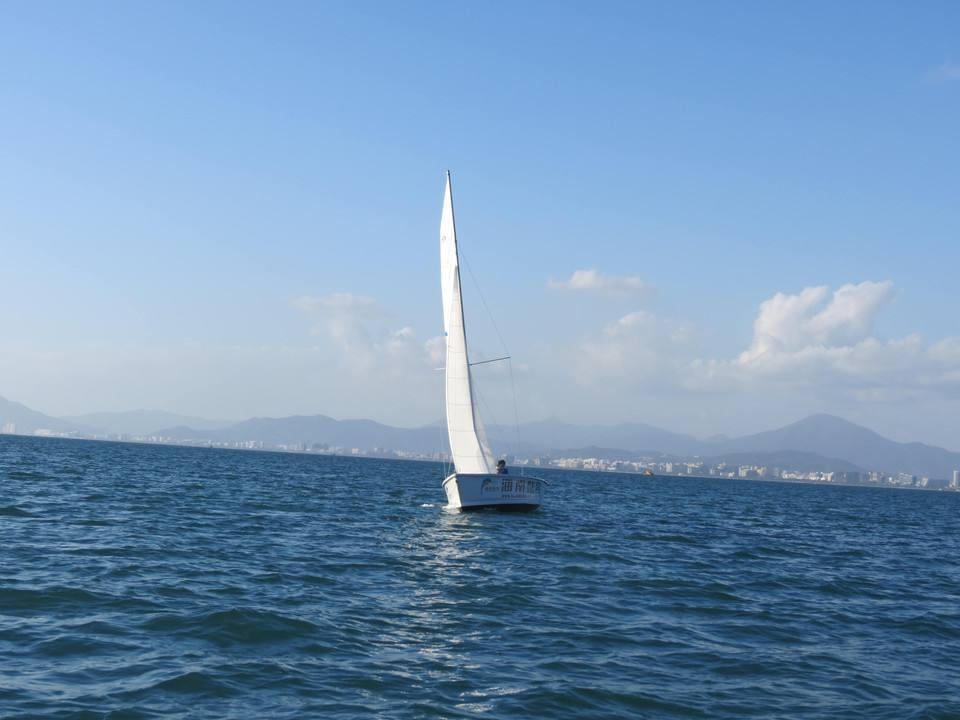fanchuan: (428, 160, 549, 510)
